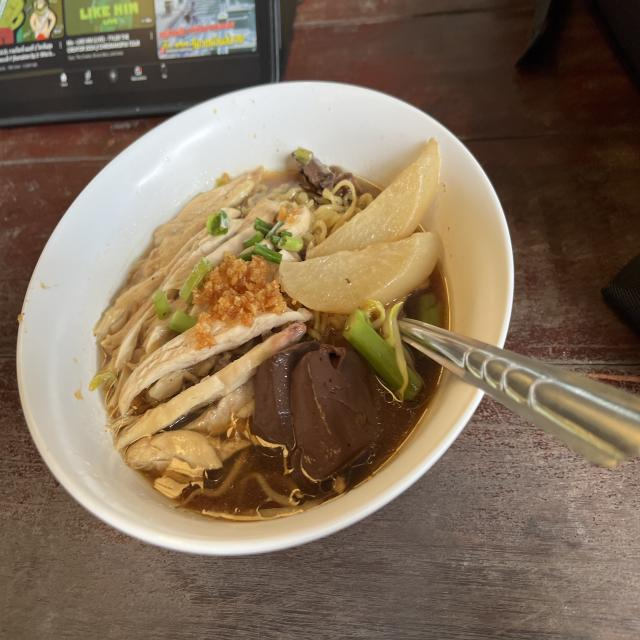noodle: (77, 130, 490, 554)
